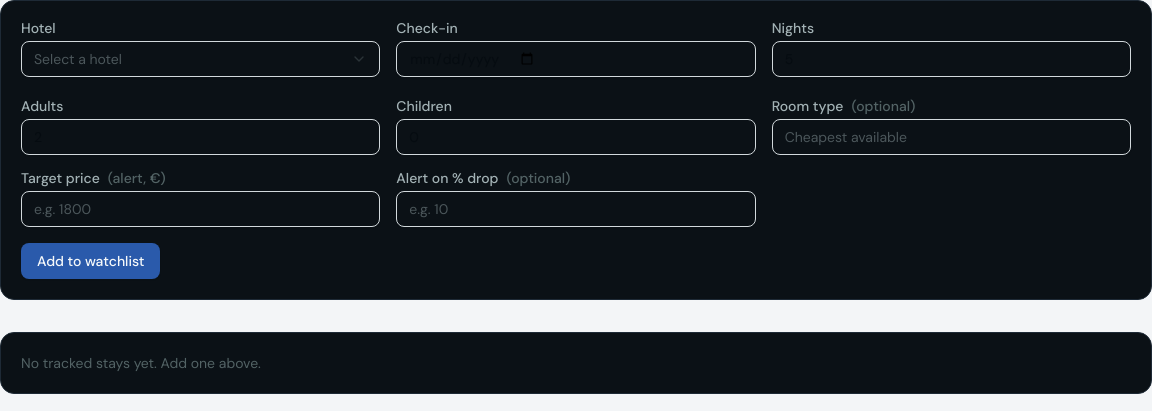
Test: WatchlistManager › asks for a hotel and a date before adding
Click the button "Add to watchlist": {"x": 91, "y": 261} [21,243,160,279]
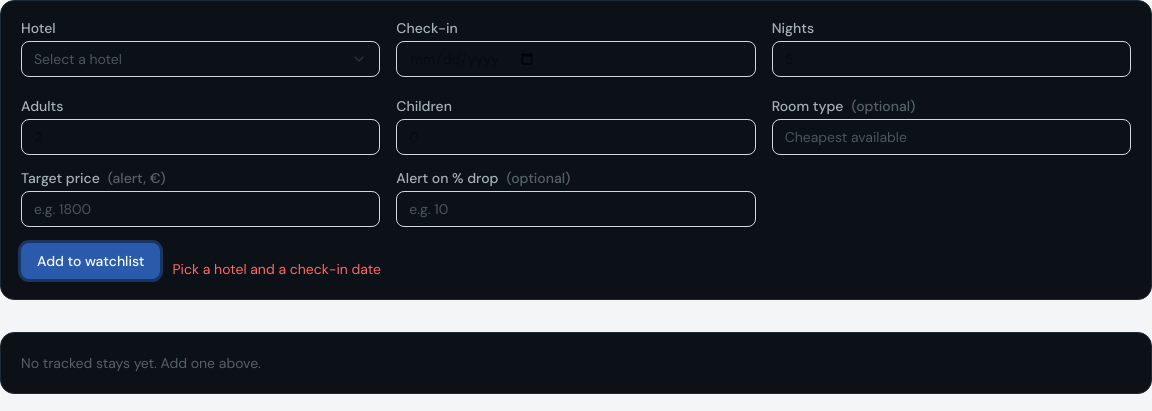
Expected: the text "Pick a hotel and a check-in date" is shown, [172,259,381,279]
